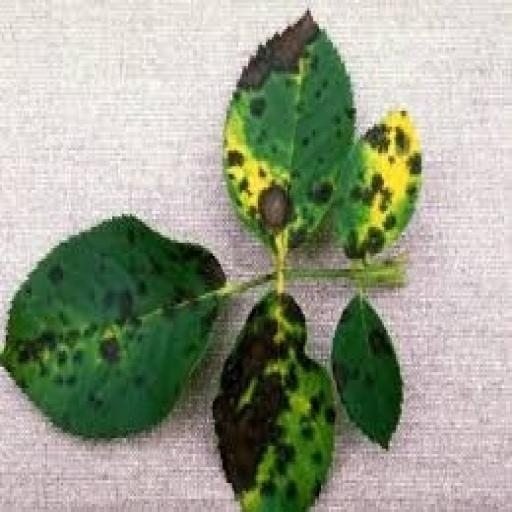downy_mildew: (2, 217, 224, 438), (225, 14, 354, 253), (213, 293, 334, 511), (335, 111, 421, 258), (331, 296, 401, 448)
